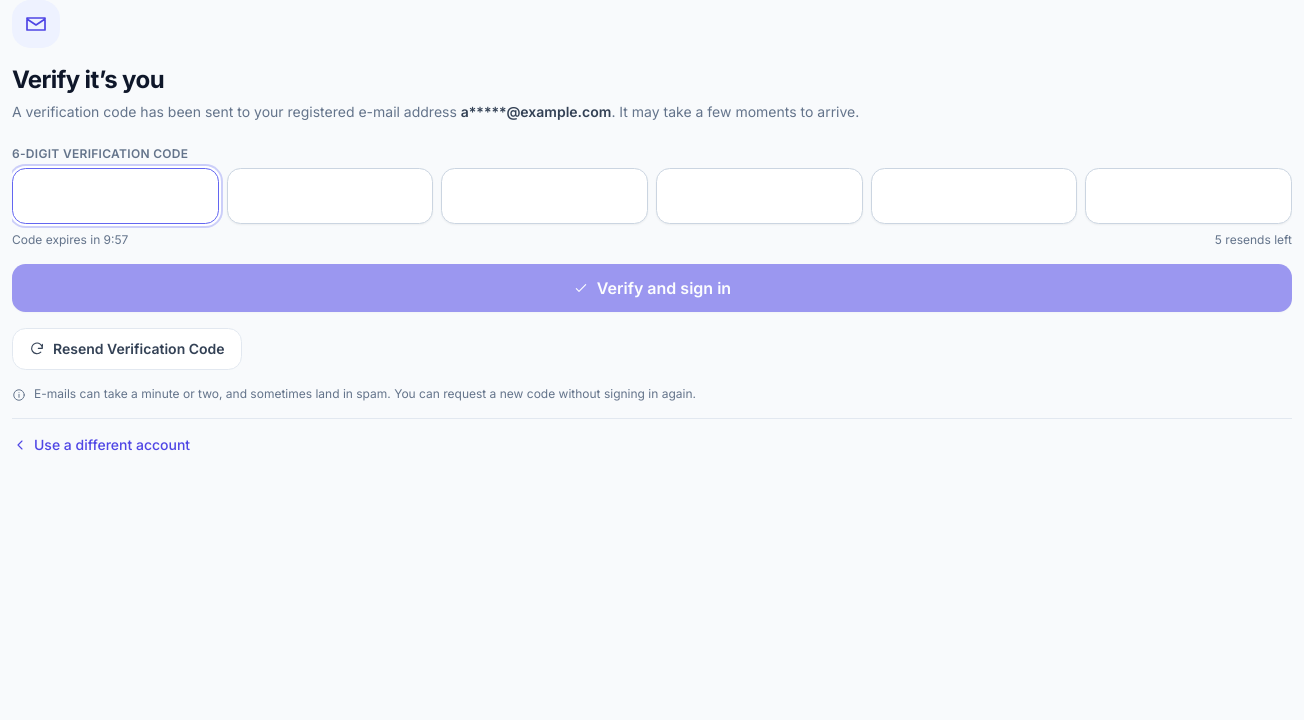
Test: LoginVerification › only reports a resend after the server confirms it
Click the button "Resend Verification Code" at (127, 349), box [12,328,242,370]
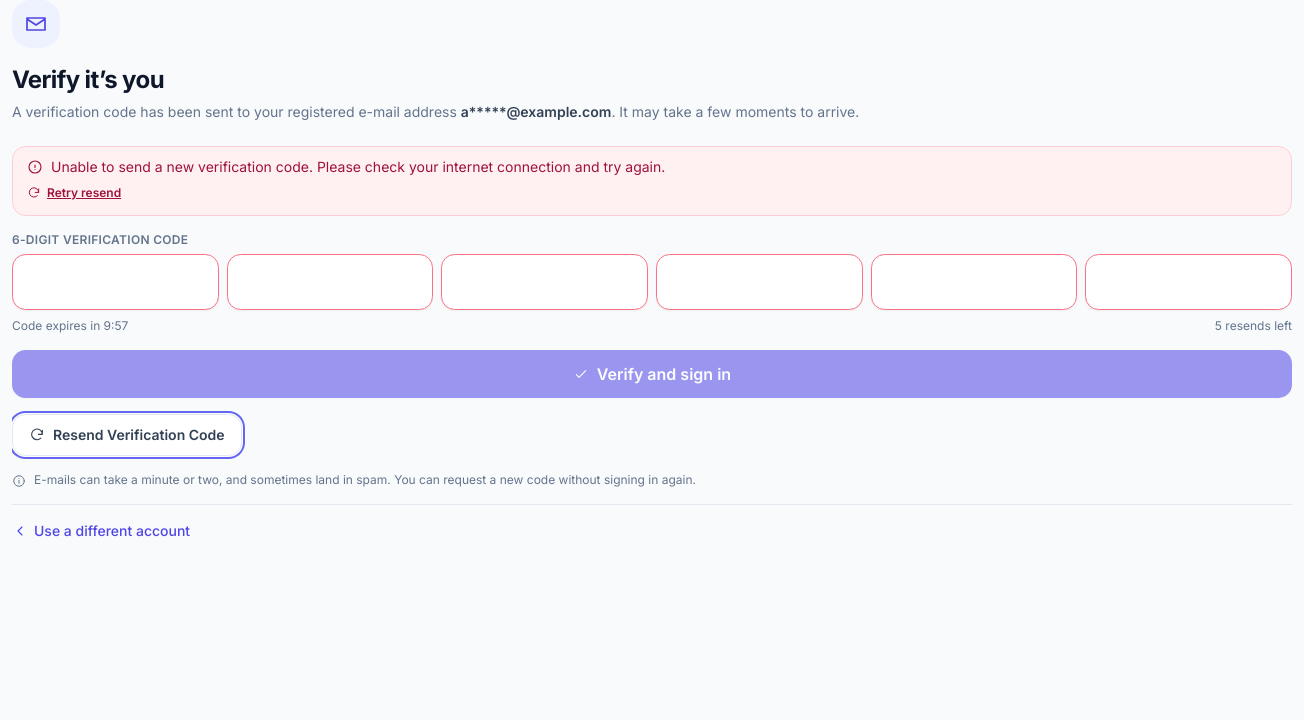
Expected: the text "new verification code has been sent" is not shown
Expected: the text "Unable to send a new verification code" is shown, [51,158,665,175]
Click the button "Retry resend" at (74, 193), box [27,185,121,201]
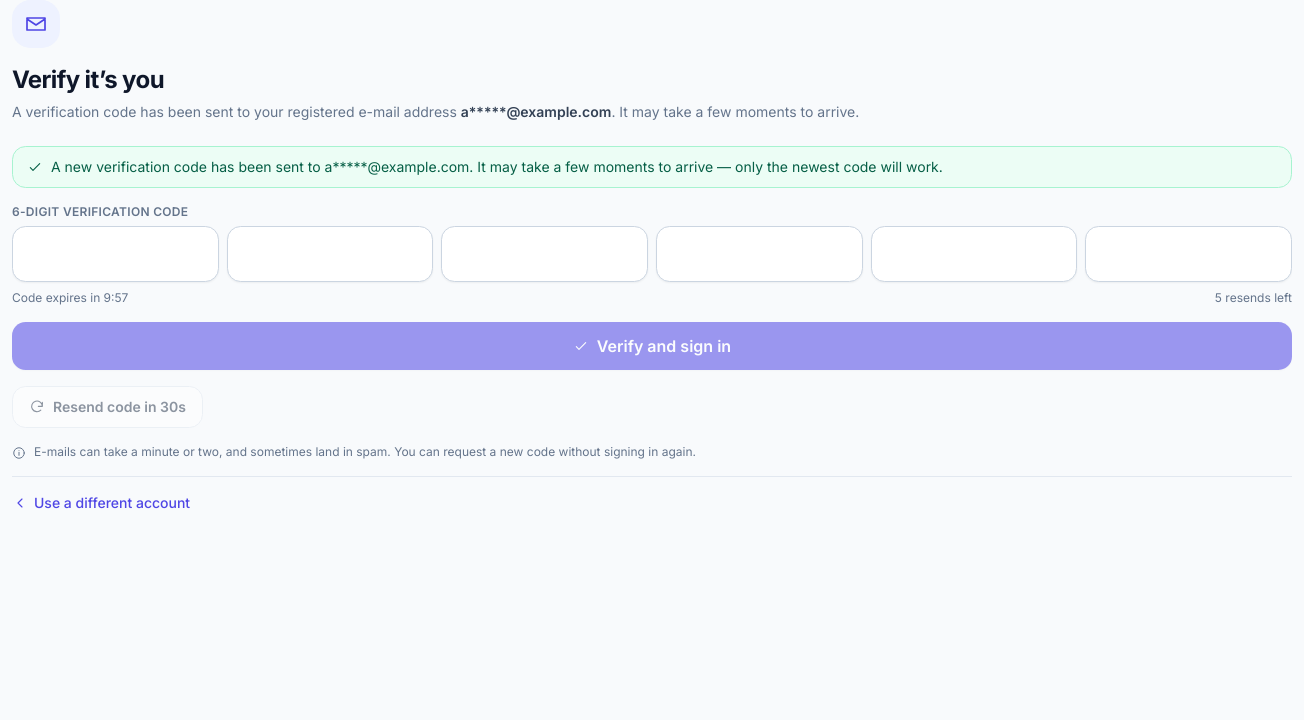
Expected: the text "new verification code has been sent" is shown, [51,158,943,175]
